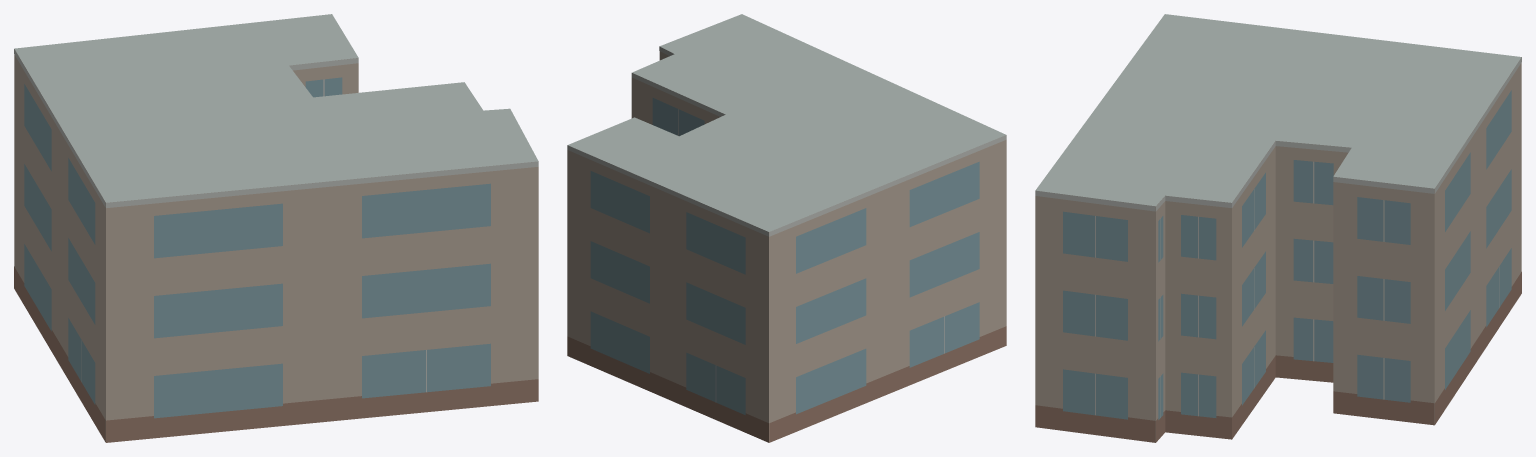
File: survey-upis-32874486.glb
3 renders of one model, left to right at view 1: azimuth 30°, elevation 25°; view 2: azimuth 150°, elevation 25°; view 3: azimuth 270°, elevation 25°, orthographic. The views are drawn at different scales.
Parts seen in each view (by area): view 1: survey-upis-32874486.tmp; view 2: survey-upis-32874486.tmp; view 3: survey-upis-32874486.tmp.
Boxes of the visible parts, box(x1,y1,x2,y2) form: survey-upis-32874486.tmp: box(14, 14, 538, 442); survey-upis-32874486.tmp: box(567, 14, 1006, 442); survey-upis-32874486.tmp: box(1035, 14, 1521, 442).
Bounding box in the file's own units: 19.01 × 10.9 × 20.32.
